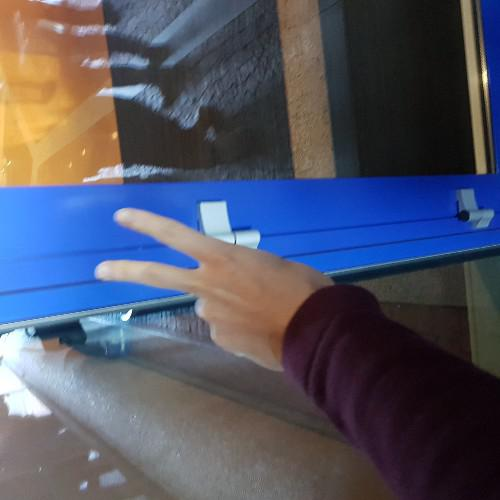scissors: (92, 198, 334, 377)
